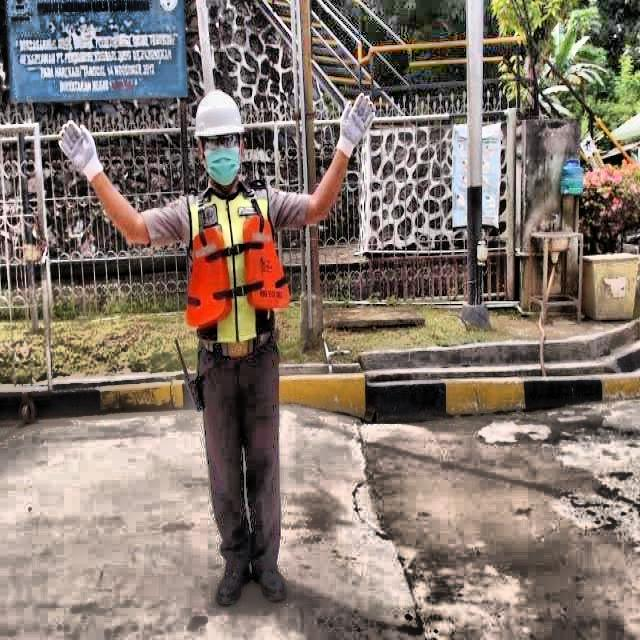safety_helmet: (193, 91, 247, 138)
safety_jacket: (188, 187, 291, 343)
